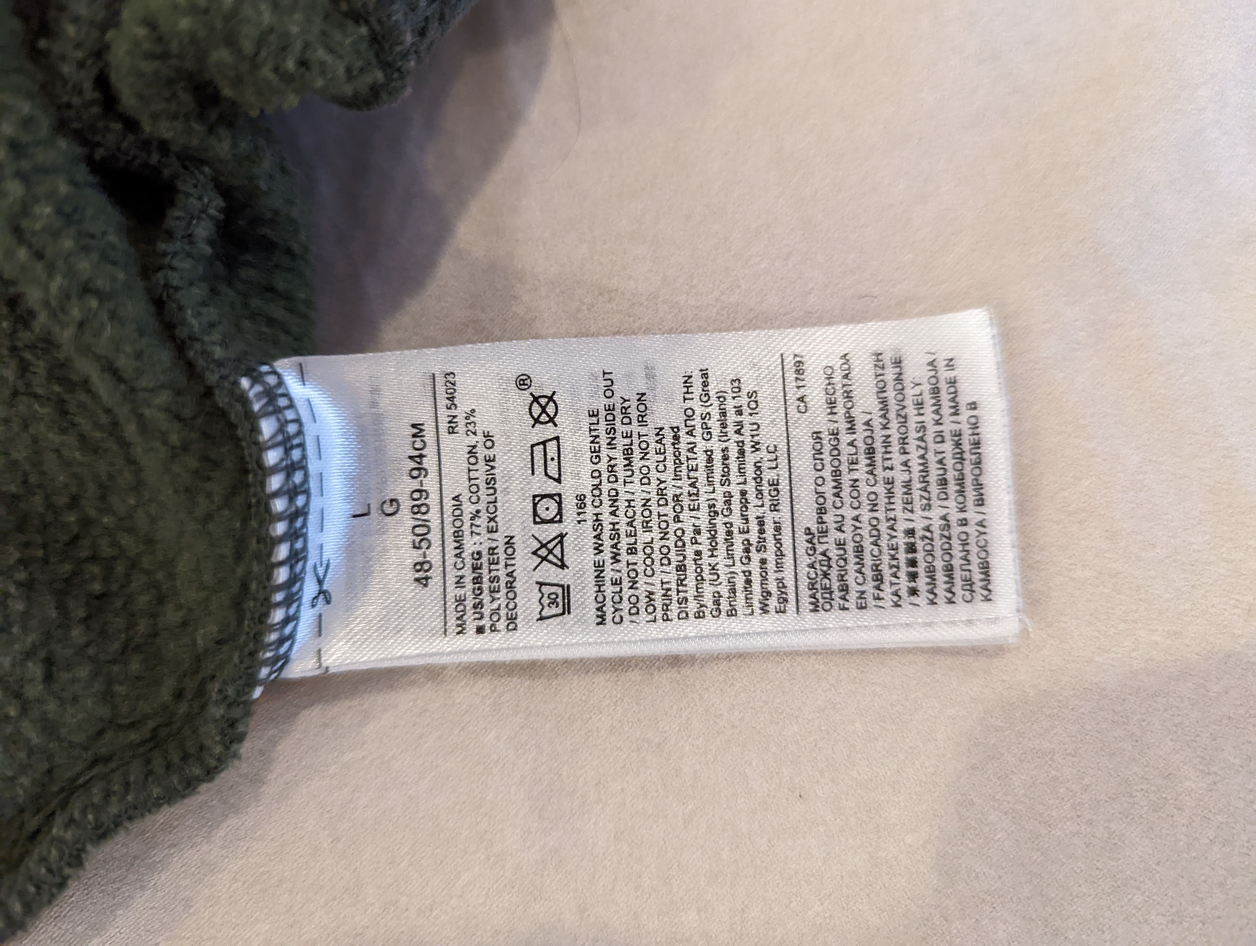ER_iron_low_temp: (523, 430, 566, 486)
ER_no_bleach: (530, 528, 575, 575)
ER_no_dry_clean: (527, 386, 563, 429)
ER_tumble_dry_low_heat: (530, 489, 566, 527)
ER_wash_30_mild: (531, 577, 577, 626)
